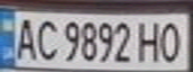2: (112, 18, 136, 63)
8: (78, 18, 100, 63)
9: (57, 17, 81, 62), (97, 18, 118, 63)
A: (12, 15, 39, 61)
C: (33, 16, 60, 62)
H: (136, 17, 163, 63)
O: (157, 18, 187, 63)
